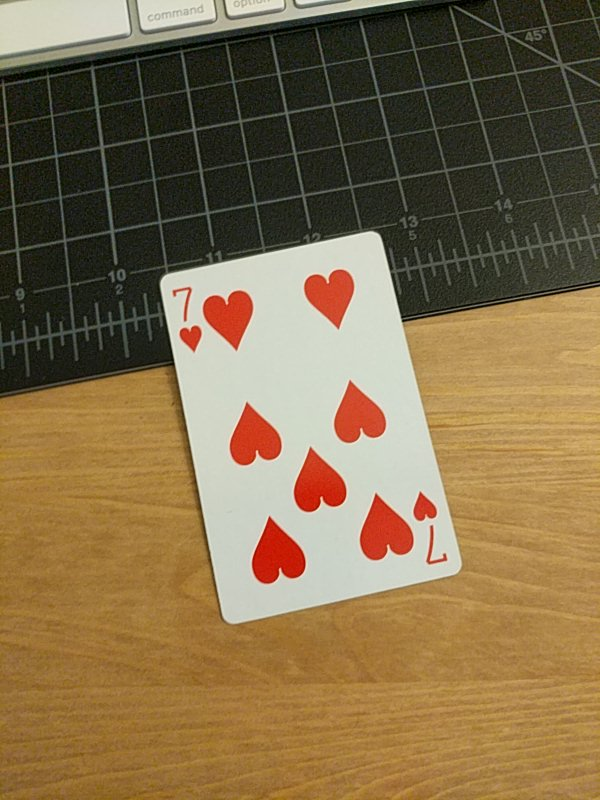Hearts: (160, 229, 465, 624)
